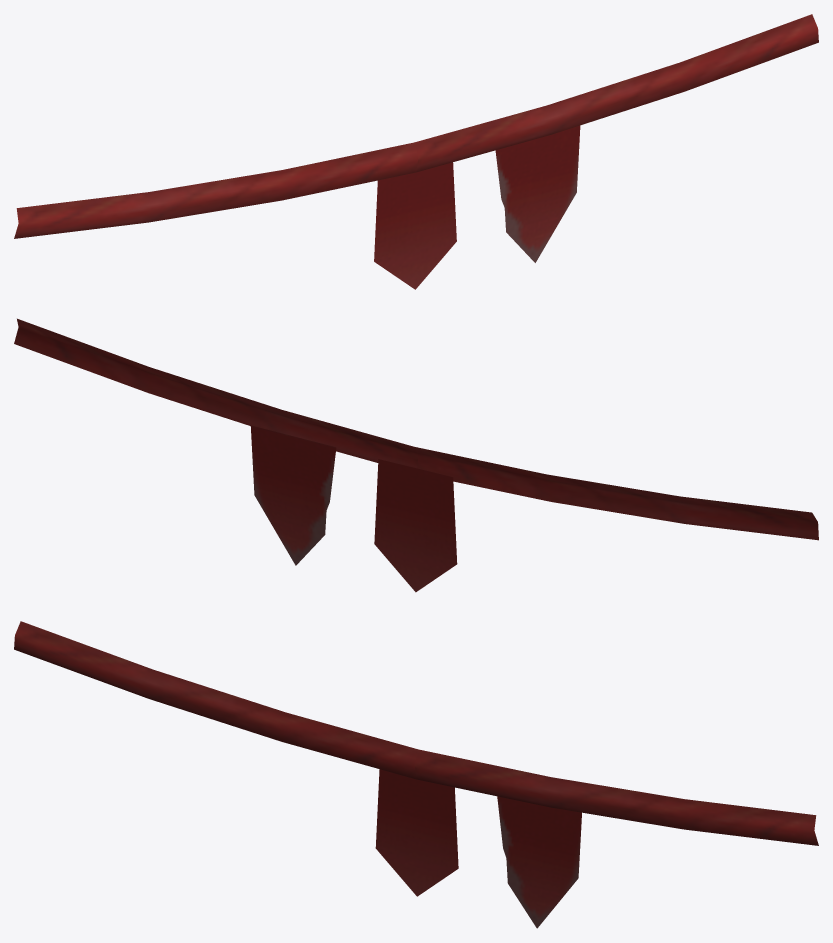
File: ZC_caitiao01.FBX
3 renders of one model, top to bottom at view 1: azimuth 30°, elevation 25°; view 2: azimuth 150°, elevation 25°; view 3: azimuth 330°, elevation 25°, orthographic.
Visible parts, largest first — view 1: ZC_caitiao01_001, ZC_caitiao01_002, ZC_caitiao01_003; view 2: ZC_caitiao01_001, ZC_caitiao01_002, ZC_caitiao01_003; view 3: ZC_caitiao01_001, ZC_caitiao01_002, ZC_caitiao01_003.
Part boxes in pixels (bbox=[...]): ZC_caitiao01_001: bbox=[14, 14, 818, 238]; ZC_caitiao01_002: bbox=[374, 162, 456, 289]; ZC_caitiao01_003: bbox=[495, 125, 580, 262]; ZC_caitiao01_001: bbox=[14, 318, 818, 540]; ZC_caitiao01_002: bbox=[374, 459, 457, 592]; ZC_caitiao01_003: bbox=[250, 425, 336, 565]; ZC_caitiao01_001: bbox=[14, 621, 818, 845]; ZC_caitiao01_002: bbox=[375, 769, 458, 896]; ZC_caitiao01_003: bbox=[497, 796, 581, 928].
Size of the model in its own units: 736 by 158 by 6.12.
Materials: 1 (1 with a texture image).
